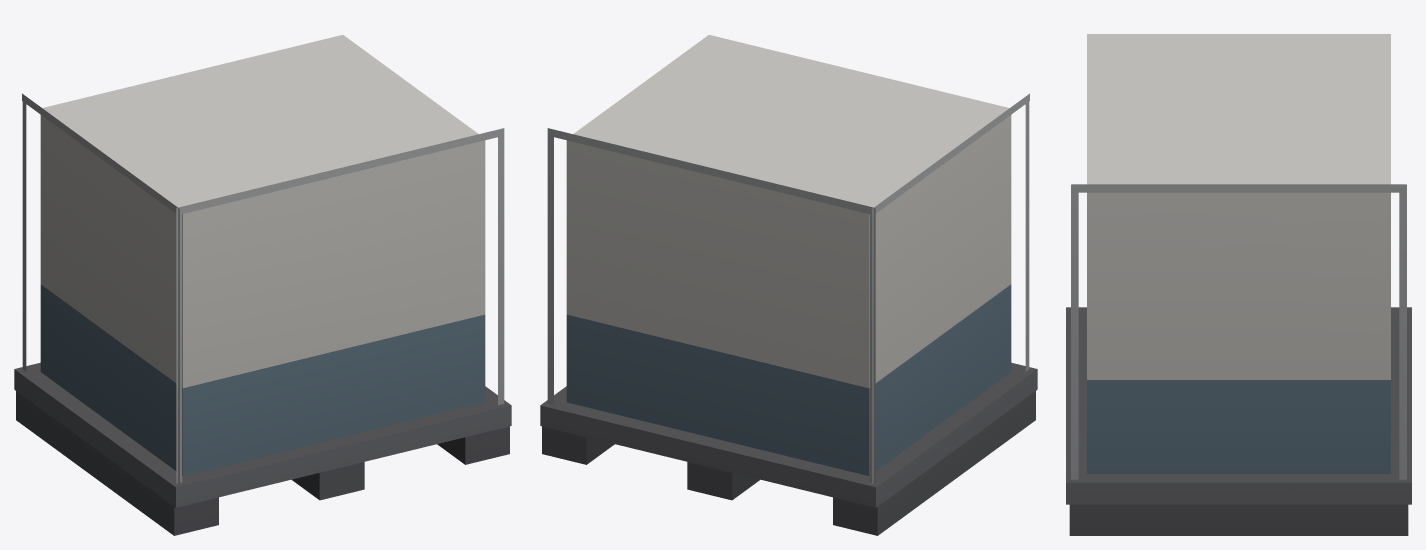
The model's file is ibc.lod2.glb.
3 renders of one model, left to right at view 1: azimuth 30°, elevation 25°; view 2: azimuth 150°, elevation 25°; view 3: azimuth 270°, elevation 25°, orthographic. The views are drawn at different scales.
Bounding box in the file's own units: 1.2 × 1.11 × 1.
